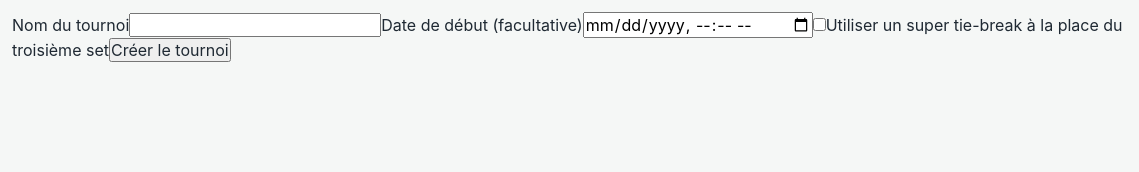
Scenario: CreateTournamentForm › shows validation messages returned by the API
In the field labelled "Nom du tournoi": point(255, 25) top-left (129, 13), bottom-right (381, 37), type "Club Open"
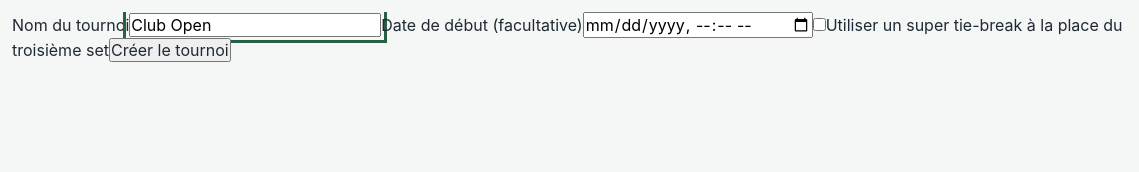
Click the button "Créer le tournoi": point(170, 50) top-left (109, 38), bottom-right (231, 62)
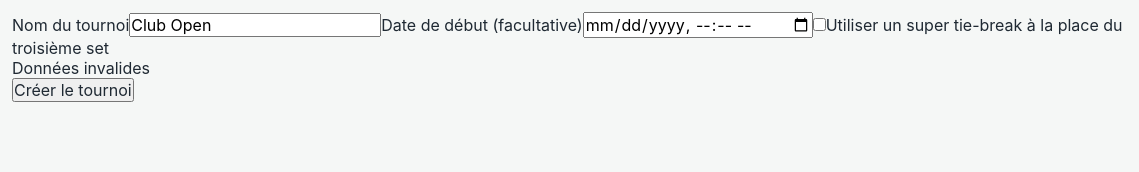
expect the message reads "Données invalides": met, box top-left (12, 58), bottom-right (150, 78)
